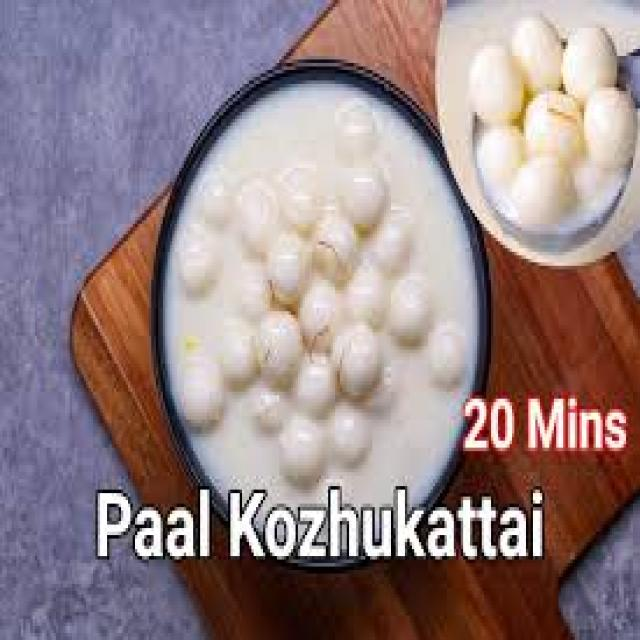paal kolukattai: (158, 110, 439, 462), (466, 12, 632, 228)
